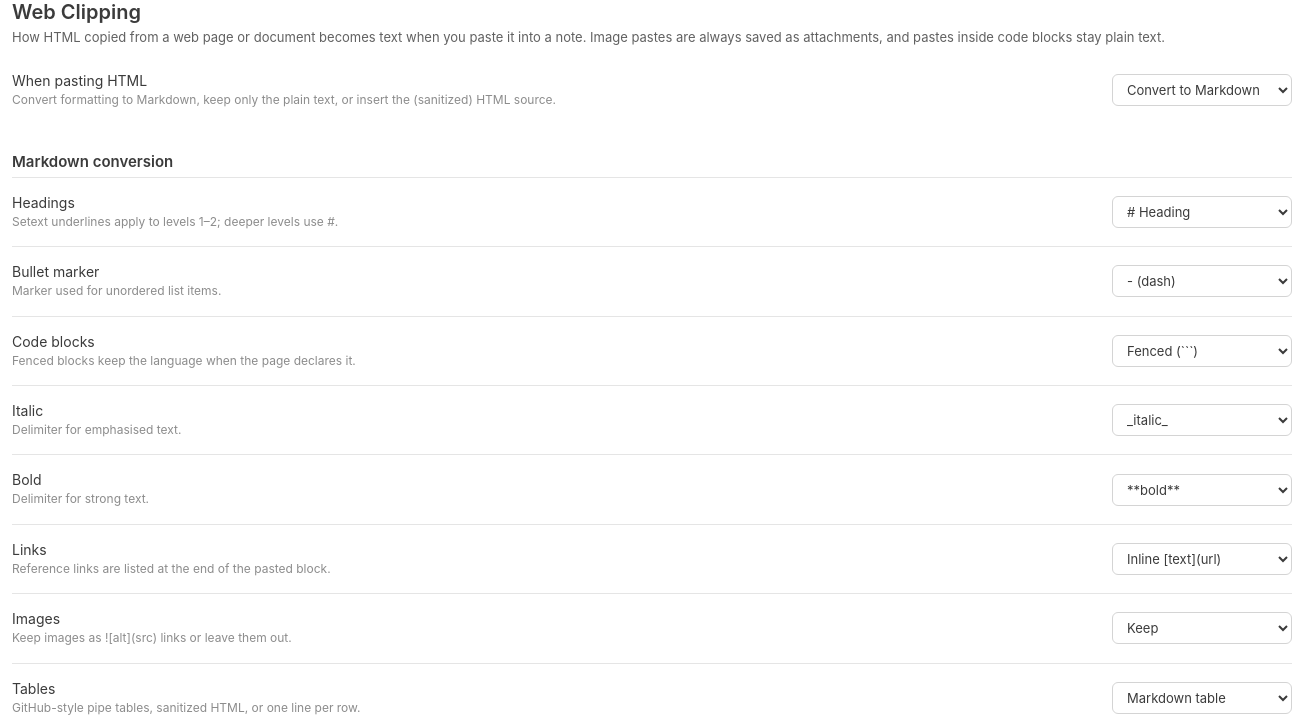
Test: ClippingSection › saves an option immediately and updates the preview
Select "* (asterisk)" in the dropdown with test id "clipping-bulletMarker" at [1202, 282], box [1112, 266, 1292, 298]
(page scrolled)
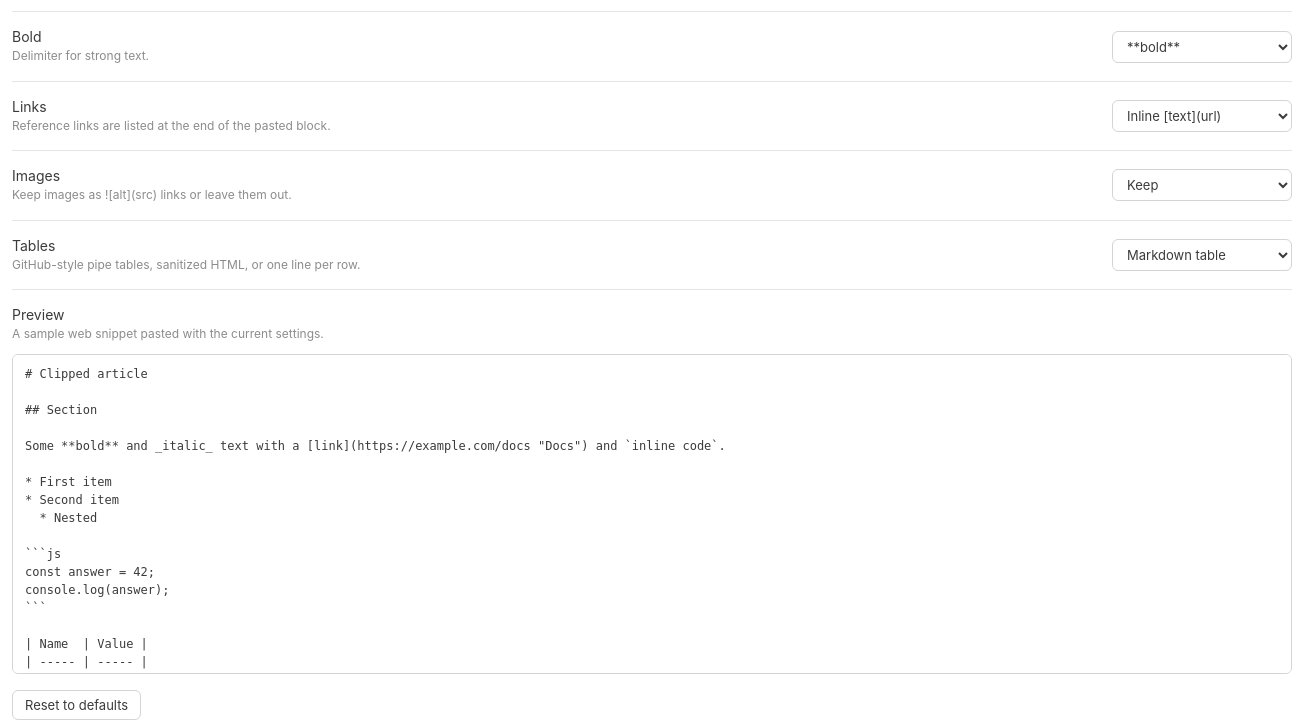
Now the button with test id "clipping-reset" is enabled, box [12, 690, 141, 719]
